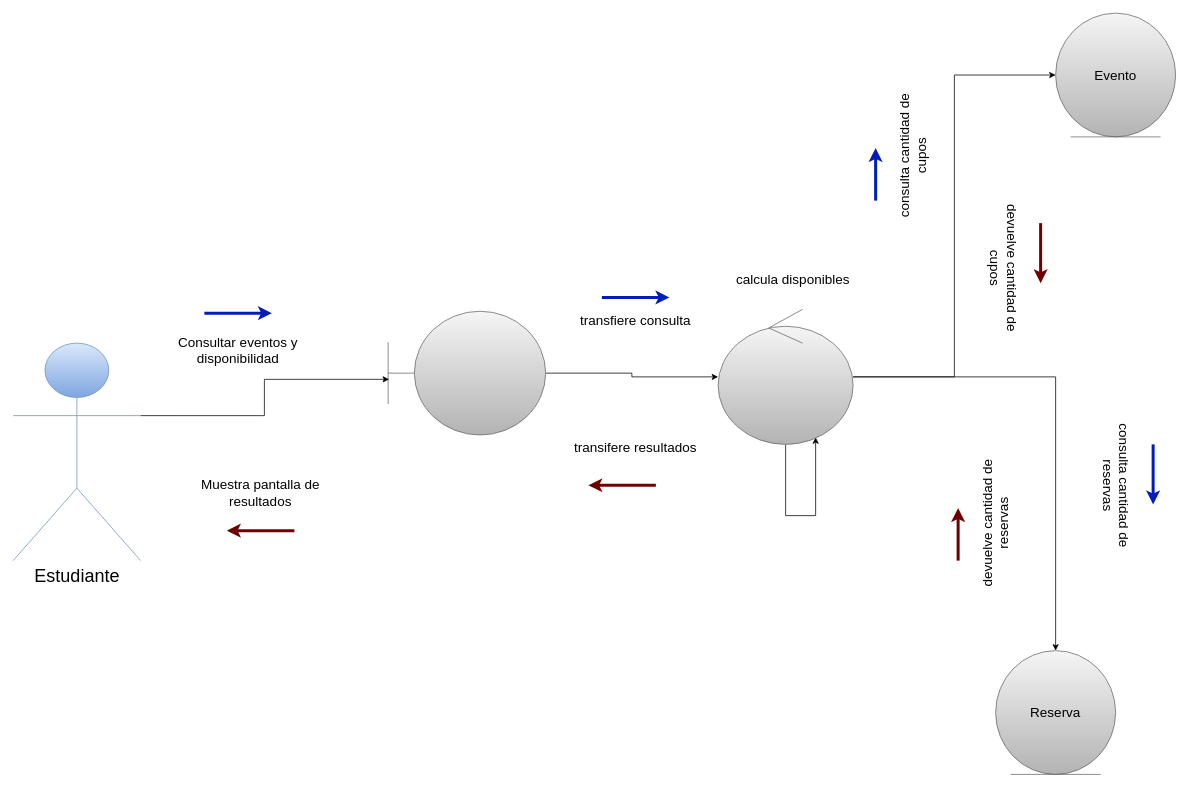
Some shapes in this 1189 by 788 pixel diagram are drawn without their labels. Each missing label, with the centre of its shape:
"CálculoCupos" belongs at (x=785, y=376).
"PantallaEvento" belongs at (x=466, y=372).
